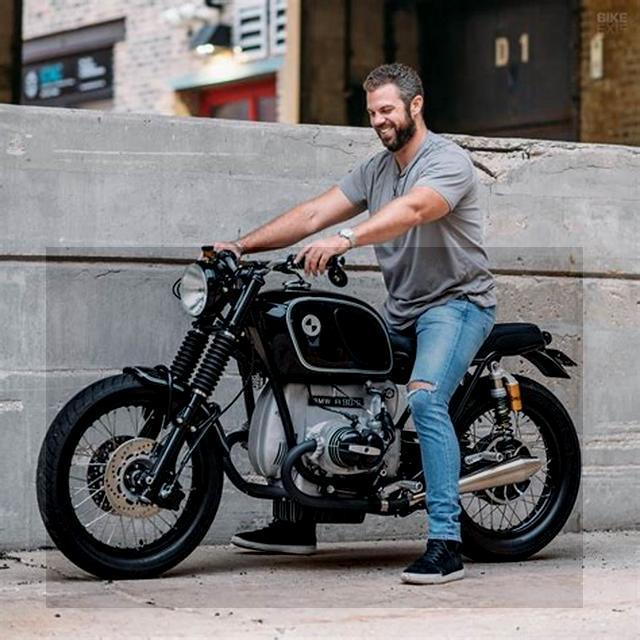Bike: (46, 247, 583, 608)
